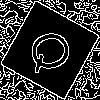Q: (25, 25, 82, 76)
